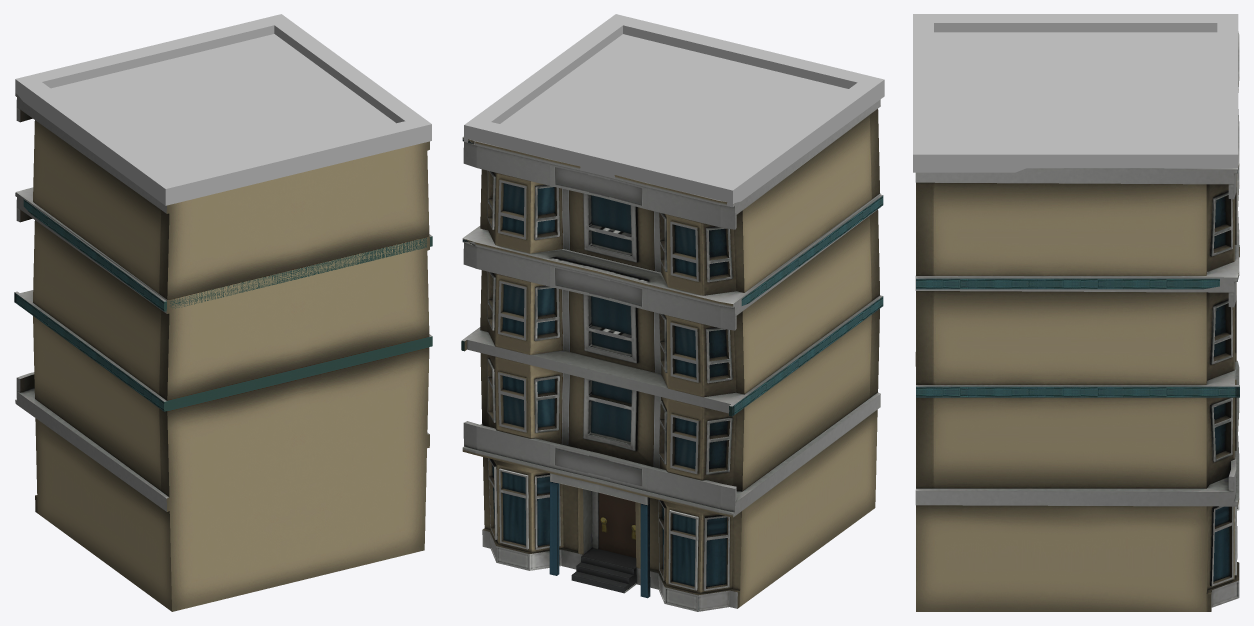
File: Building_Appartment.FBX
3 renders of one model, left to right at view 1: azimuth 30°, elevation 25°; view 2: azimuth 150°, elevation 25°; view 3: azimuth 270°, elevation 25°, orthographic. The views are drawn at different scales.
Visible parts, largest first — view 1: Box013, Box014; view 2: Box013, Box014; view 3: Box013, Box014.
Part boxes in pixels (x1,y1,x2,y2): Box013: (14,93,432,611); Box014: (15,14,431,205); Box013: (461,99,883,611); Box014: (464,14,884,207); Box013: (915,31,1239,611); Box014: (913,14,1238,172).
Bounding box in the file's own units: 995 × 1505 × 968.
